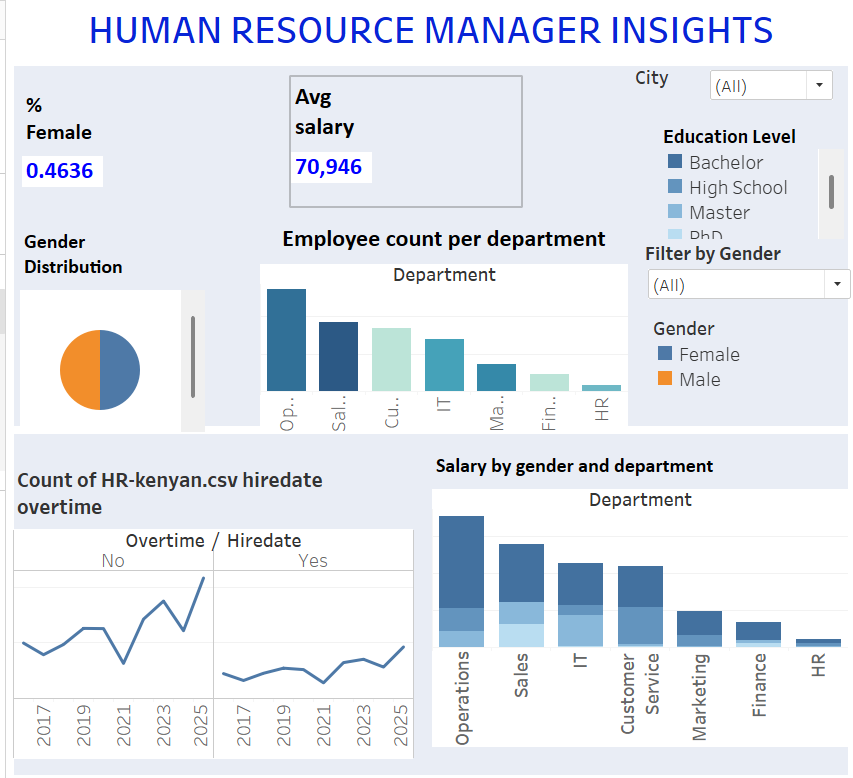

The page's visual inventory and layout, read from the dashboard file:
{"tool":"tableau","page":{"name":"Dashboard 2","canvas":[1000,1000],"units":"permille","ordinal":0},"visuals":[{"type":"title","box":[0,0,1000,62.1]},{"type":"blank","box":[4.7,68.2,990.6,557.6]},{"type":"filter","title":"Sheet 10","param":"[federated.0ux8zot0n1tenz13r0jf10cp9tqm].[none:city:nk]","box":[735.3,80.3,245.9,77.3]},{"type":"worksheet","title":"Sheet 3","mark":"Text","box":[335.4,98.2,270.8,164.3]},{"type":"worksheet","title":"Sheet 6","mark":"Text","box":[18.5,110.7,266.1,153.6]},{"type":"legend","title":"Sheet 10","param":"[federated.0ux8zot0n1tenz13r0jf10cp9tqm].[none:education_level:nk]","box":[772.9,157.6,215.3,148.5]},{"type":"worksheet","title":"Sheet 5","mark":"Bar","rows":["Calculation_1173187723333582851"],"cols":["department"],"box":[298.8,280.3,432.9,274.2]},{"type":"worksheet","title":"Sheet 7","mark":"Pie","box":[16.9,287.5,250.8,264.3]},{"type":"filter","title":"Sheet 7","param":"[federated.0ux8zot0n1tenz13r0jf10cp9tqm].[none:gender:nk]","box":[752.3,307.1,246.2,94.6]},{"type":"legend","title":"Sheet 7","param":"[federated.0ux8zot0n1tenz13r0jf10cp9tqm].[none:gender:nk]","box":[761.5,401.8,215.4,103.6]},{"type":"worksheet","title":"Sheet 10","mark":"Automatic","rows":["salary"],"cols":["department"],"box":[501.5,573.2,489.2,380.4]},{"type":"worksheet","title":"Sheet 4","mark":"Automatic","rows":["HumanResources-Kenyan.csv_298DFB99F2BB45B184808A4E68638F8E"],"cols":["overtime","hiredate"],"box":[7.7,589.3,472.3,380.4]},{"type":"blank","box":[4.7,625.8,990.6,368.2]}]}

Visuals, with their boxes on the dashboard's canvas, which has no fixed pixel size, in thousandths of its width and height (x1, y1, x2, y2). These are canvas units, not pixel positions in the 853x778 screenshot, which may show the page scaled, cropped or inside an application window:
title: region(0, 0, 1000, 62)
blank: region(5, 68, 995, 626)
"Sheet 10" filter: region(735, 80, 981, 158)
"Sheet 3" worksheet (Text marks): region(335, 98, 606, 262)
"Sheet 6" worksheet (Text marks): region(18, 111, 285, 264)
"Sheet 10" legend: region(773, 158, 988, 306)
"Sheet 5" worksheet (Bar marks): region(299, 280, 732, 554)
"Sheet 7" worksheet (Pie marks): region(17, 288, 268, 552)
"Sheet 7" filter: region(752, 307, 998, 402)
"Sheet 7" legend: region(762, 402, 977, 505)
"Sheet 10" worksheet: region(502, 573, 991, 954)
"Sheet 4" worksheet: region(8, 589, 480, 970)
blank: region(5, 626, 995, 994)
